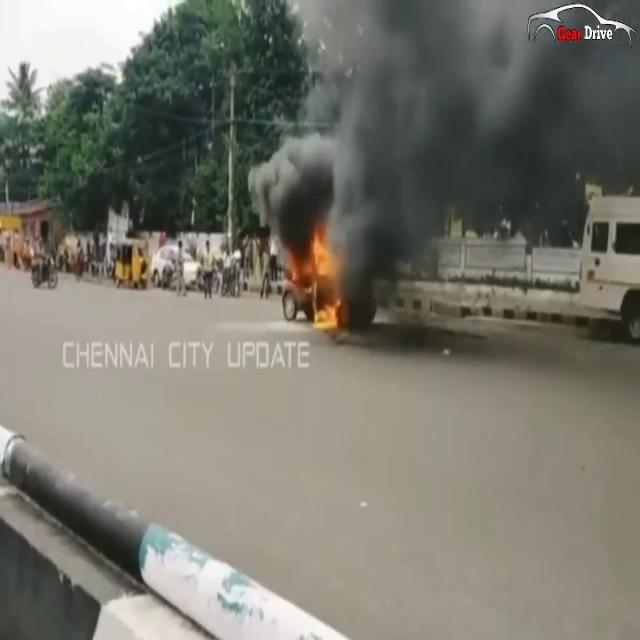Fire: (287, 223, 347, 326)
Smoke: (256, 0, 640, 280)
